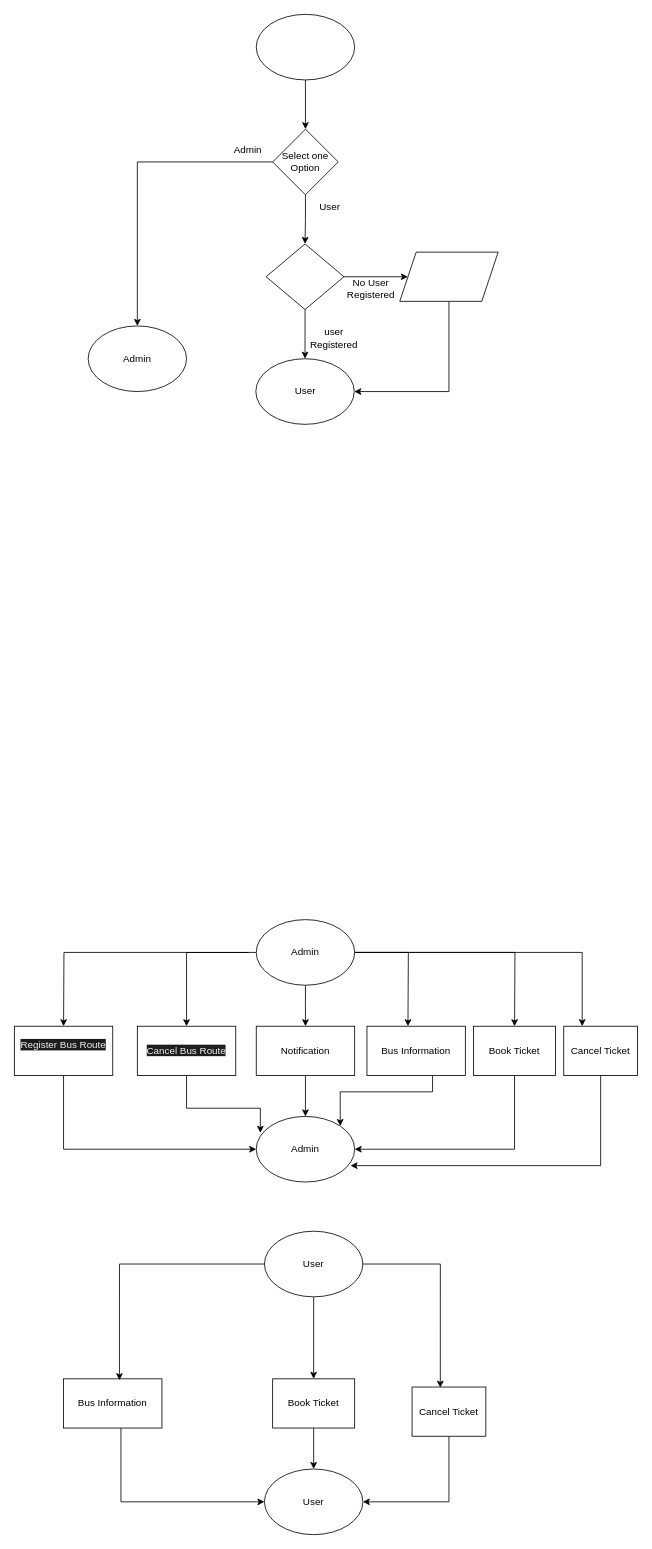
This 652x1549 diagram has some shape labels left out. The centre of each missing label's shape, as x and y in pixels:
Login Creds?: point 304,276
Register User: point 448,276
Start: point 305,47
